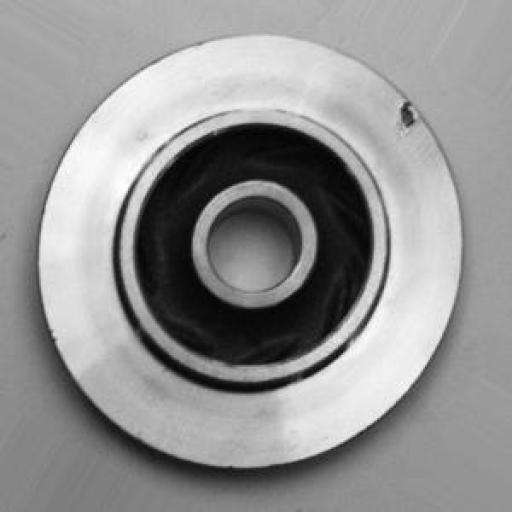defect: (378, 81, 447, 158)
